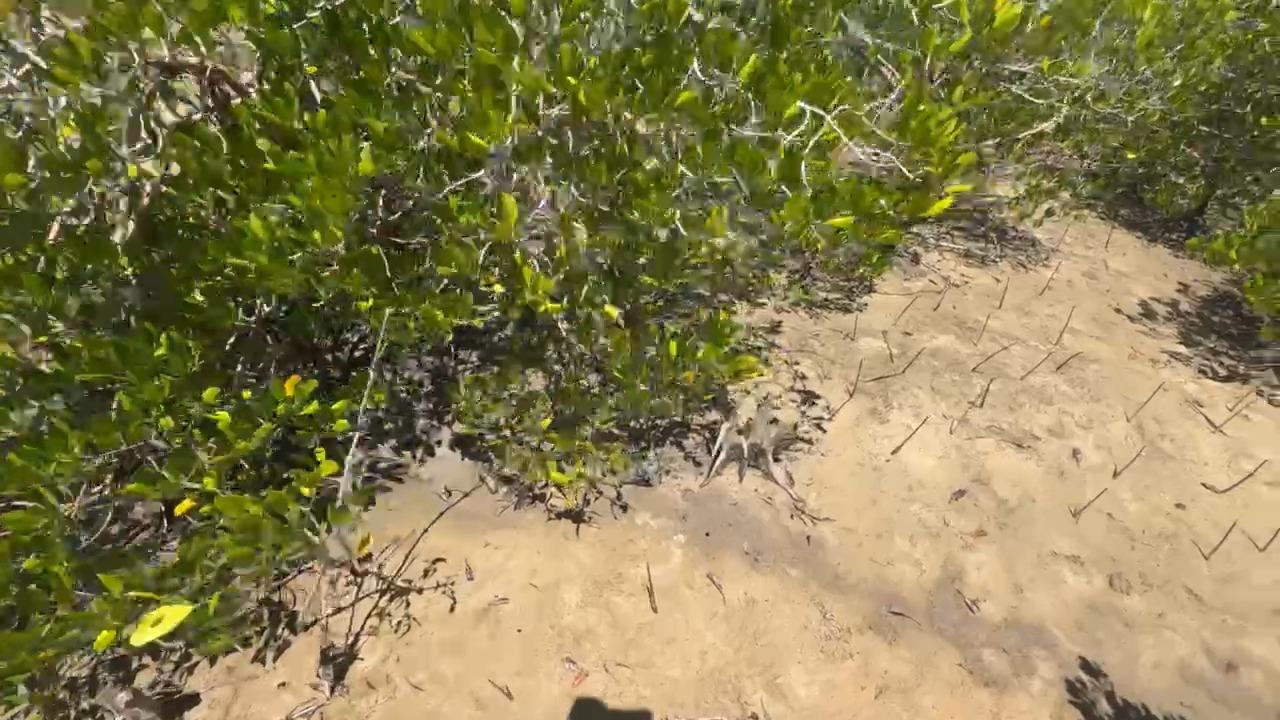Tree: (891, 416, 929, 456), (1222, 460, 1268, 493), (1213, 400, 1257, 434), (1128, 381, 1165, 421), (971, 343, 1016, 372), (1207, 520, 1237, 559), (1113, 445, 1146, 479), (1073, 487, 1108, 517), (1020, 352, 1052, 381), (1054, 305, 1076, 345), (1039, 261, 1062, 296), (487, 678, 514, 702), (902, 346, 926, 373), (706, 573, 726, 605), (646, 561, 658, 614), (895, 296, 918, 323), (1056, 351, 1084, 372), (849, 358, 863, 398), (979, 377, 996, 408), (956, 589, 975, 615), (888, 611, 920, 625), (933, 285, 950, 311), (976, 314, 990, 345), (1262, 527, 1280, 551), (997, 277, 1010, 309), (1230, 392, 1250, 411), (1056, 222, 1071, 247), (883, 331, 894, 364), (403, 676, 423, 691), (1104, 224, 1114, 248), (853, 314, 859, 340)
